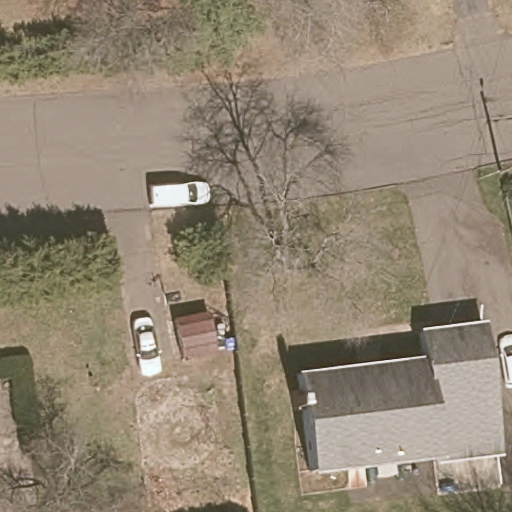DT: (477, 146, 512, 182)
